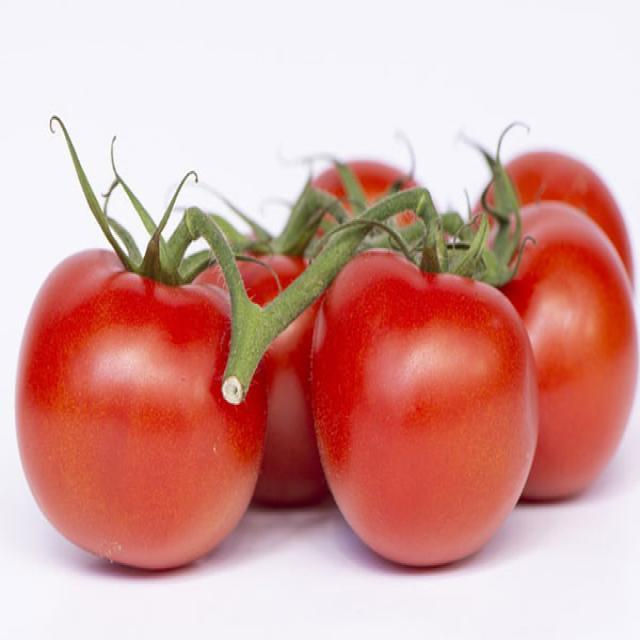kirmizi: (32, 178, 640, 578)
